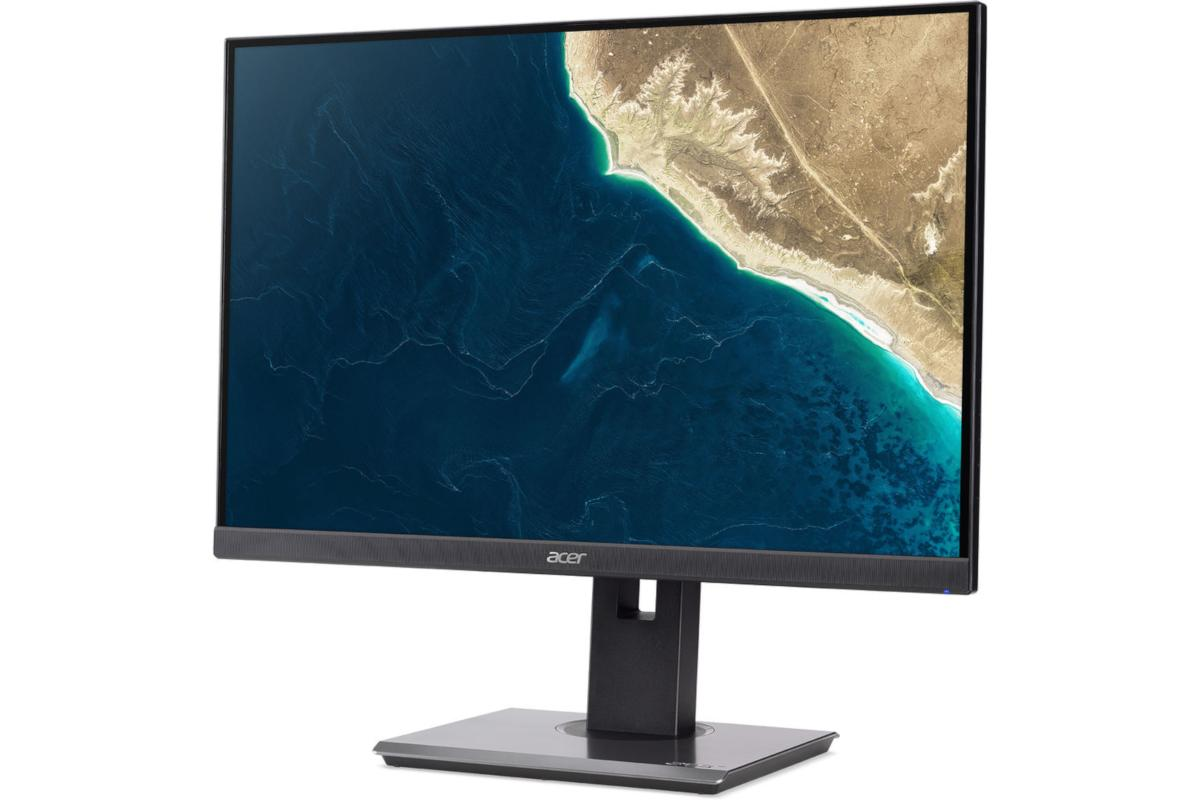monitor: (191, 1, 1019, 800)
